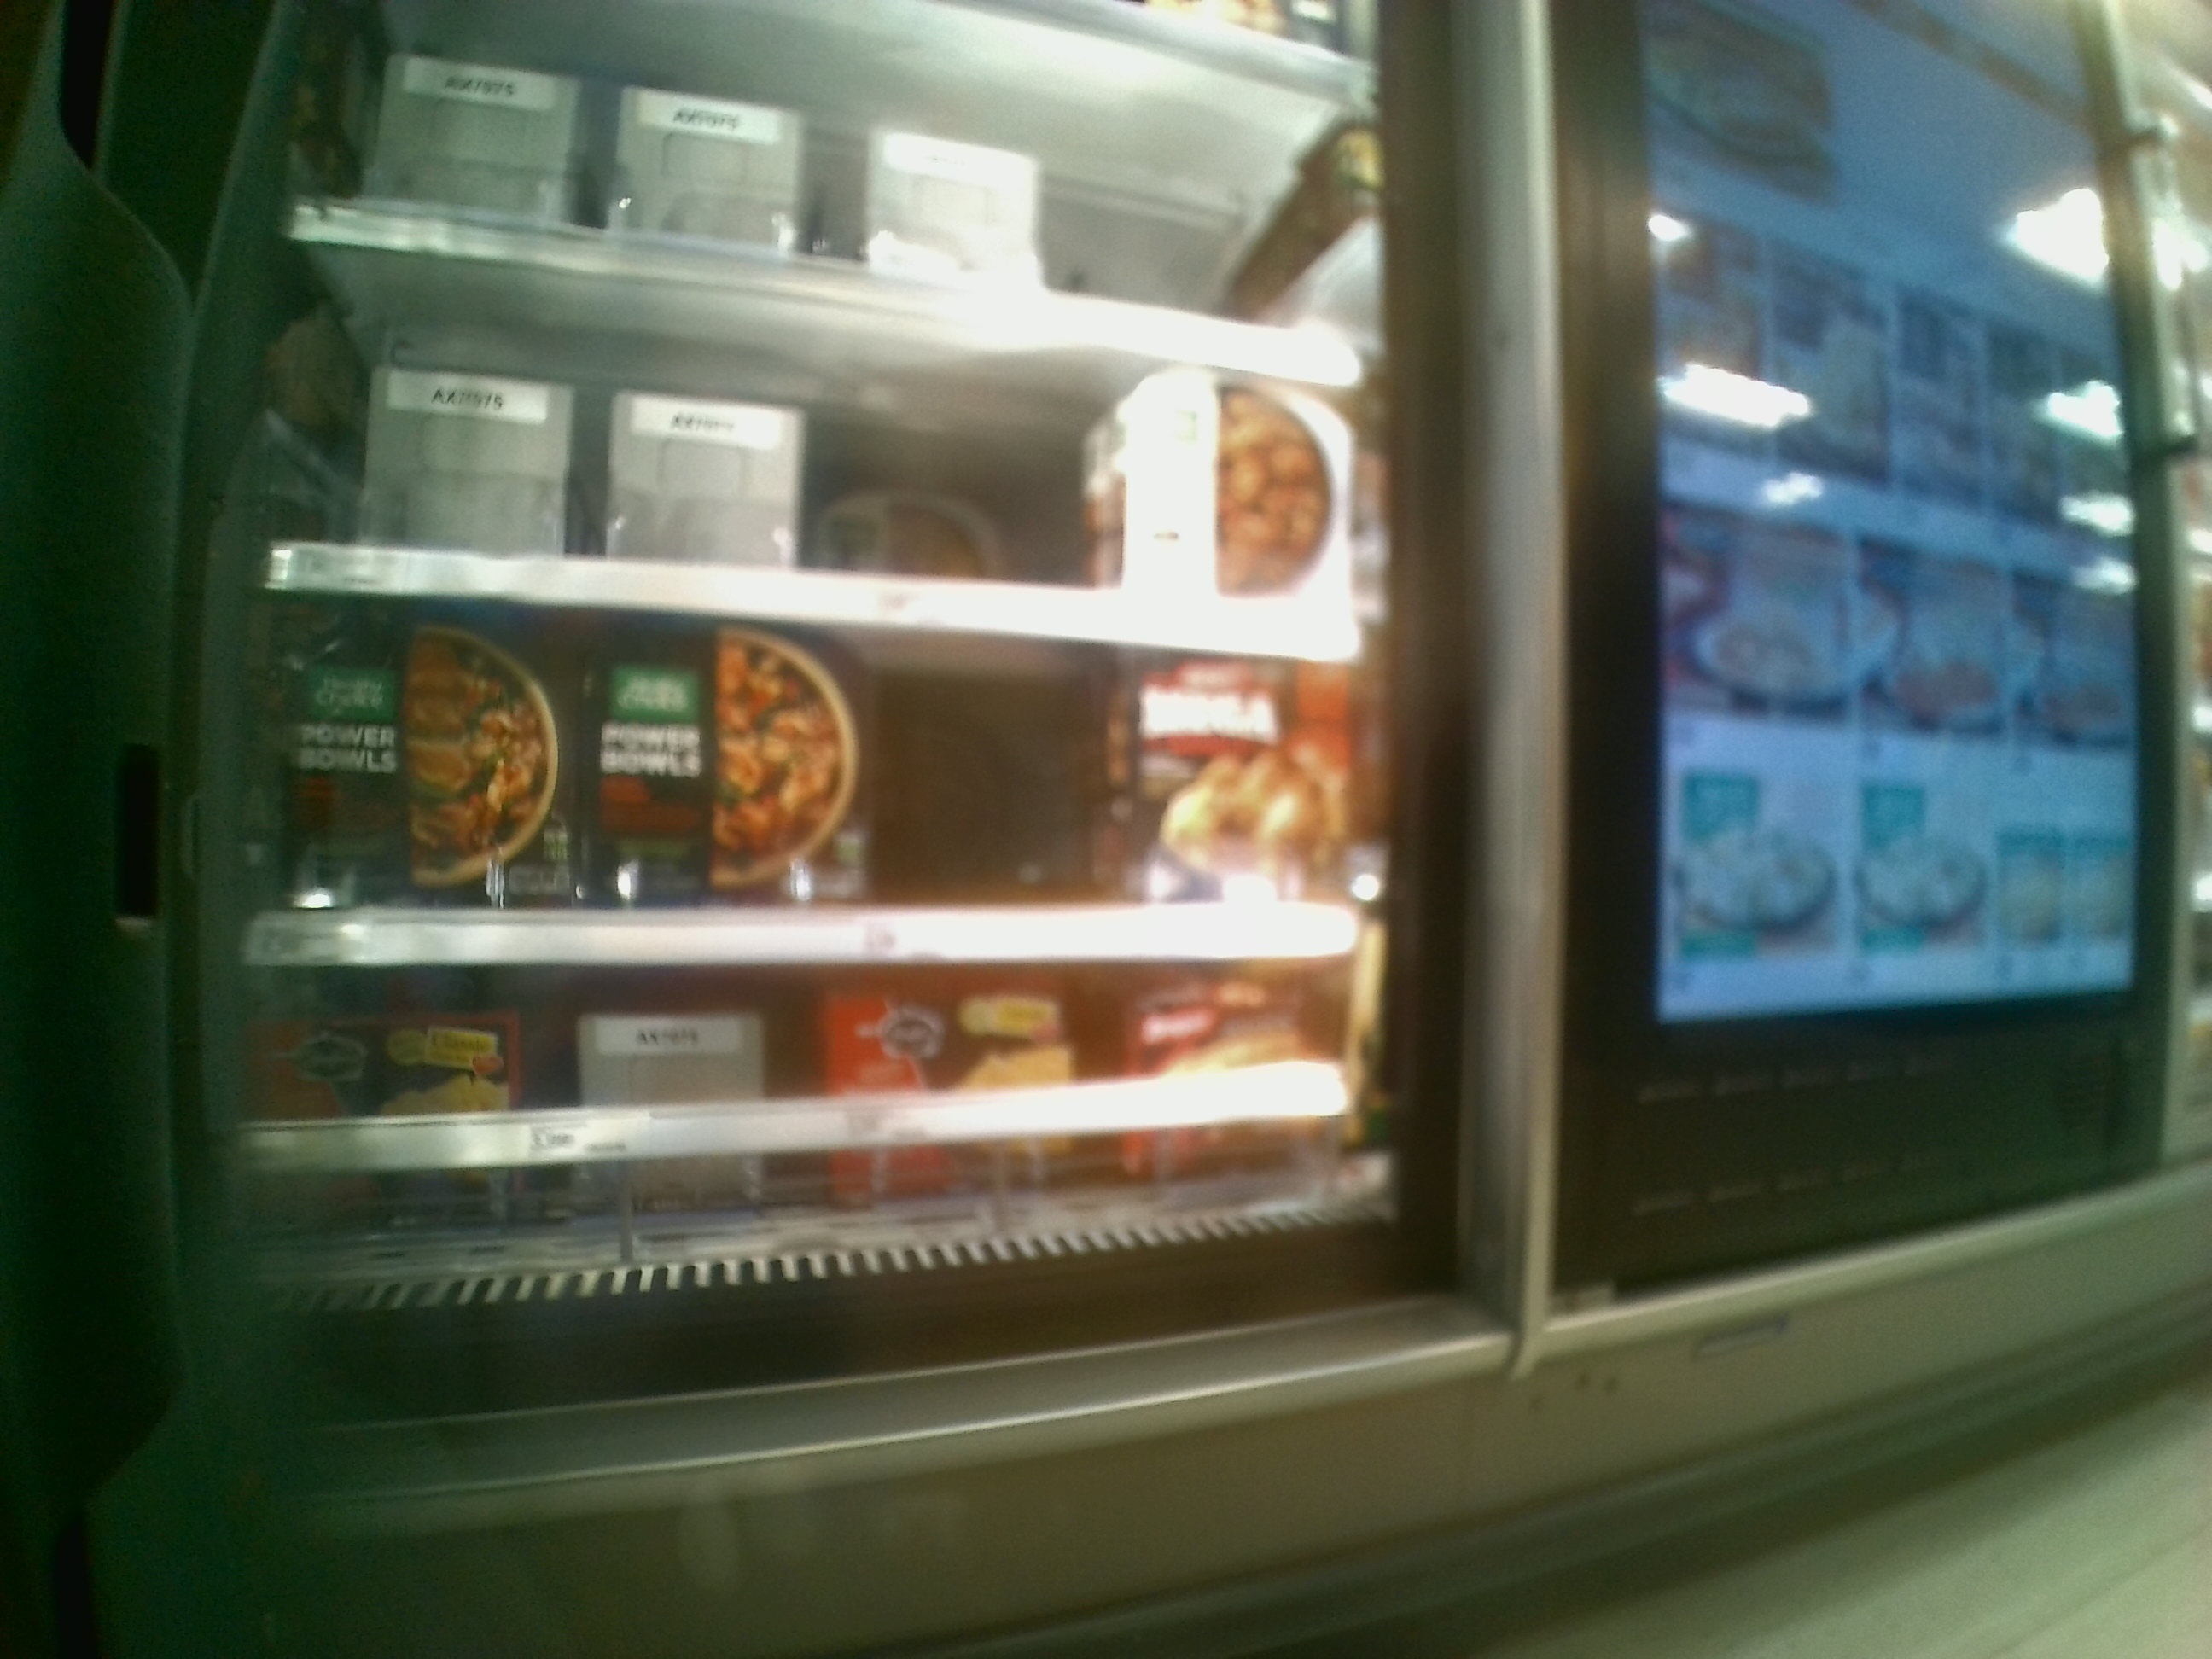shelf: (258, 586, 1372, 967), (225, 972, 1400, 1253)
